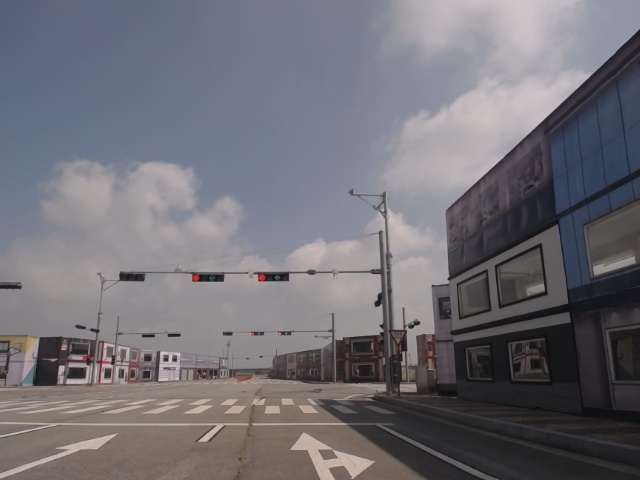left_green_4: (191, 274, 224, 283), (257, 273, 290, 281)
